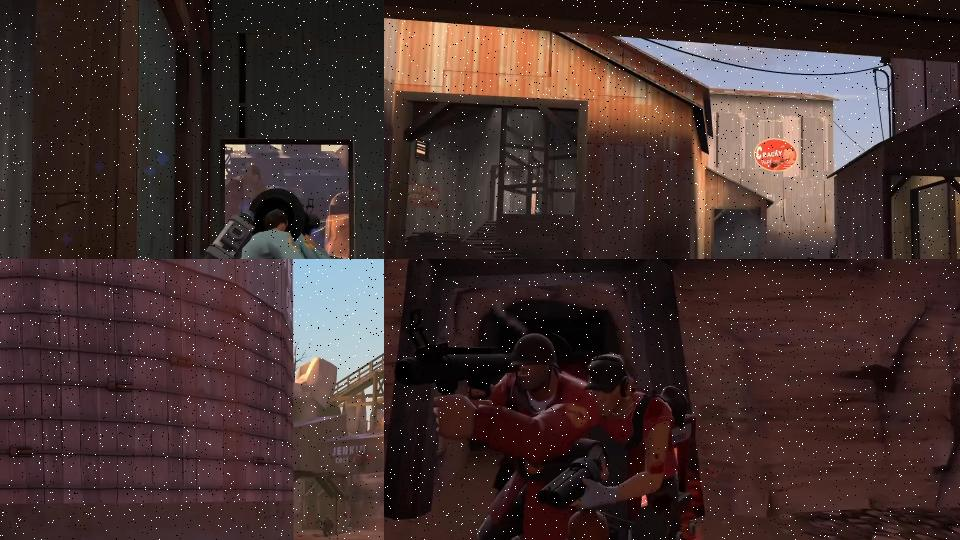Enemy: (391, 317, 606, 540), (546, 342, 694, 540), (317, 516, 334, 539)
